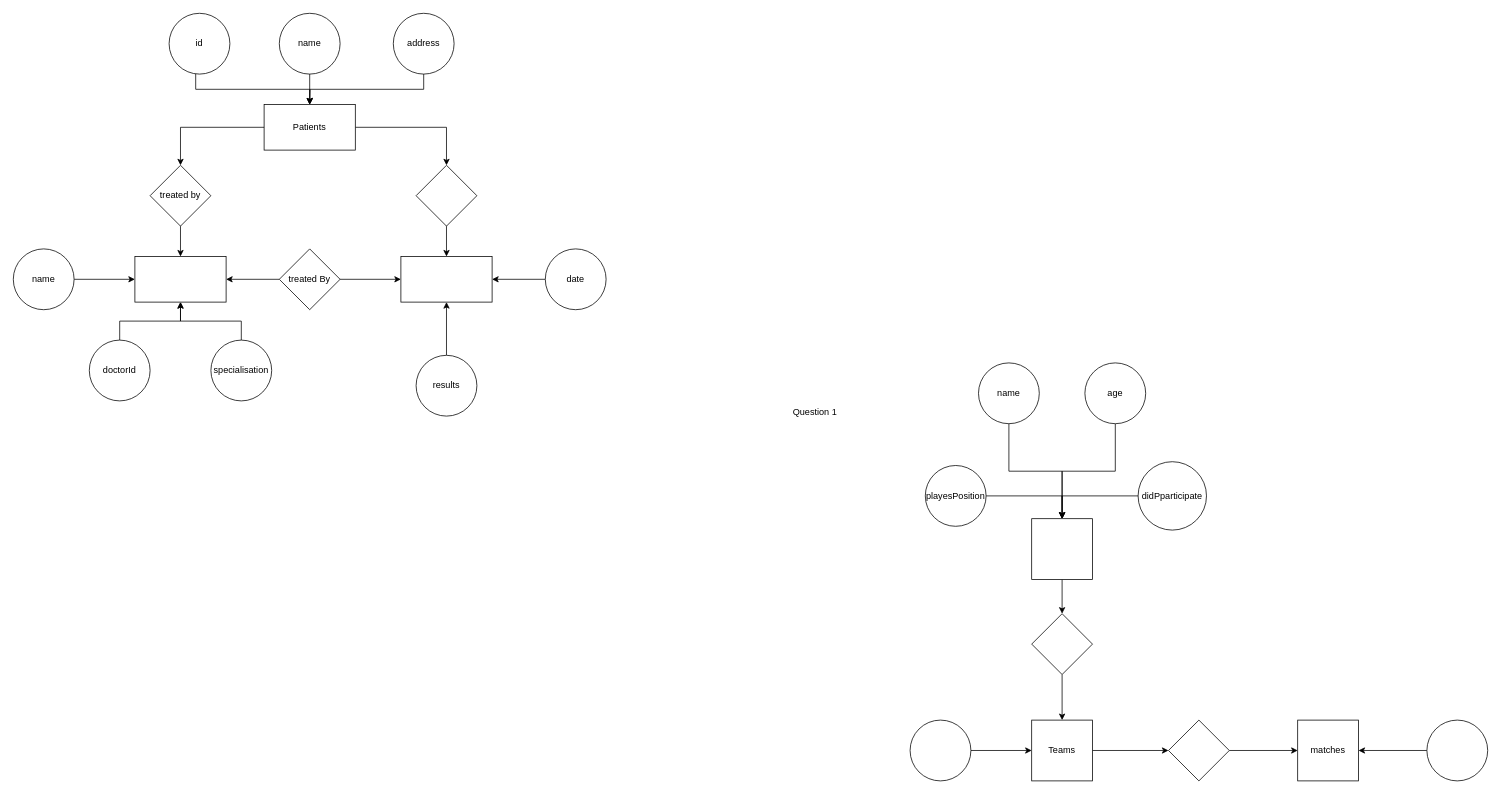
Some shapes in this 1501 by 794 pixel diagram are drawn without their labels. Here are the shapes that lost their labels. From the top down, the box of each, then its label:
(415, 165, 477, 226): test log
(134, 256, 226, 302): Doctors
(400, 256, 492, 302): Tests
(1031, 518, 1092, 580): Players
(1031, 613, 1092, 674): presentIn
(909, 719, 971, 781): teamName
(1168, 719, 1229, 781): played
(1426, 719, 1488, 781): Result
